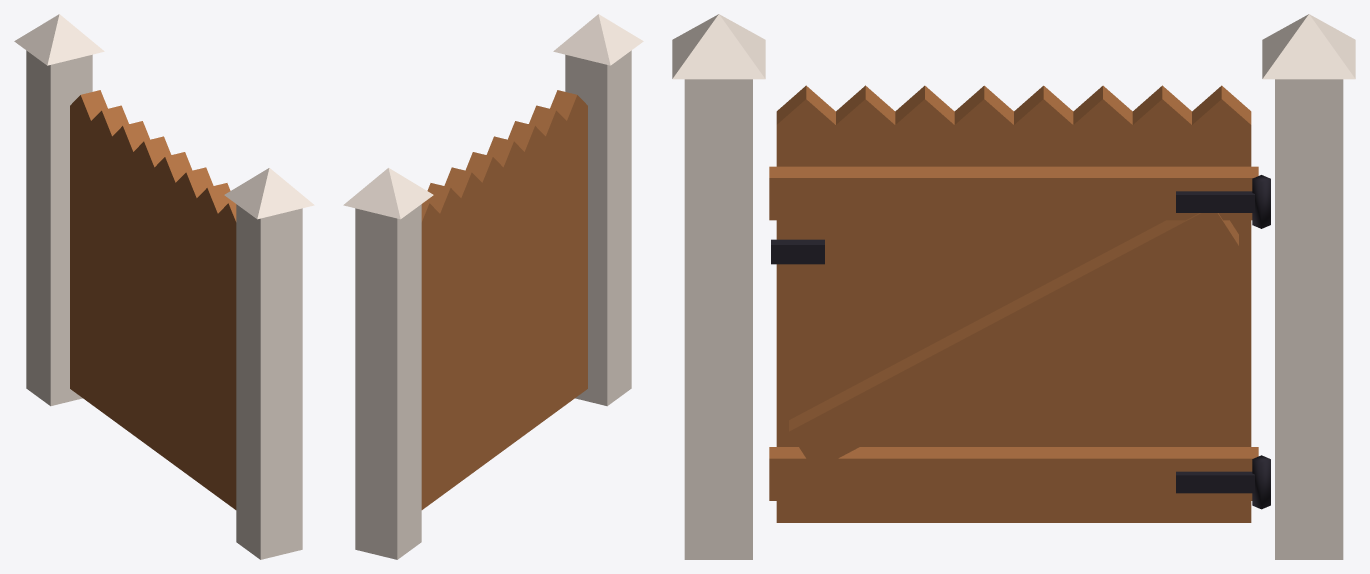
3 renders of one model, left to right at view 1: azimuth 30°, elevation 25°; view 2: azimuth 150°, elevation 25°; view 3: azimuth 270°, elevation 25°, orthographic. The views are drawn at different scales.
Visible parts, largest first — view 1: gate, body; view 2: gate, body; view 3: gate, body, object 1.
Boxes of the visible parts, x1,y1,x2,y2 form: gate: (70,90,236,509); body: (14,14,314,559); gate: (421,90,587,509); body: (343,14,643,559); gate: (769,85,1258,522); body: (672,14,1355,559); object 1: (1252,175,1270,509).
Size of the model in its own units: 0.298 by 1.63 by 1.9.
